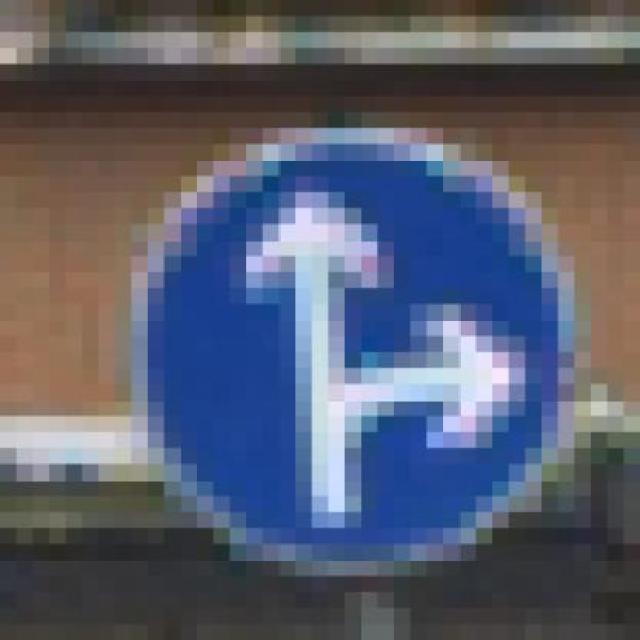Go Straight or Turn Right: (115, 129, 574, 576)
